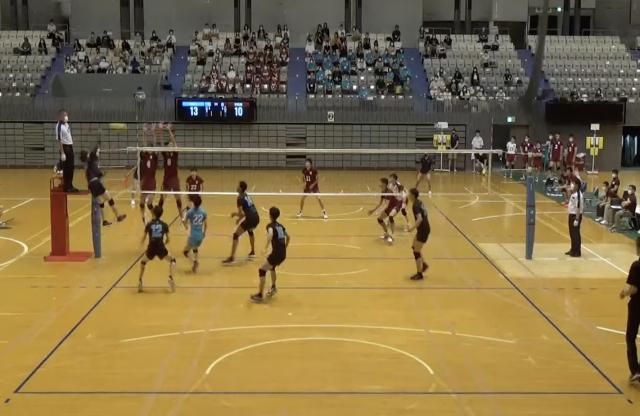spike: (78, 125, 128, 229)
